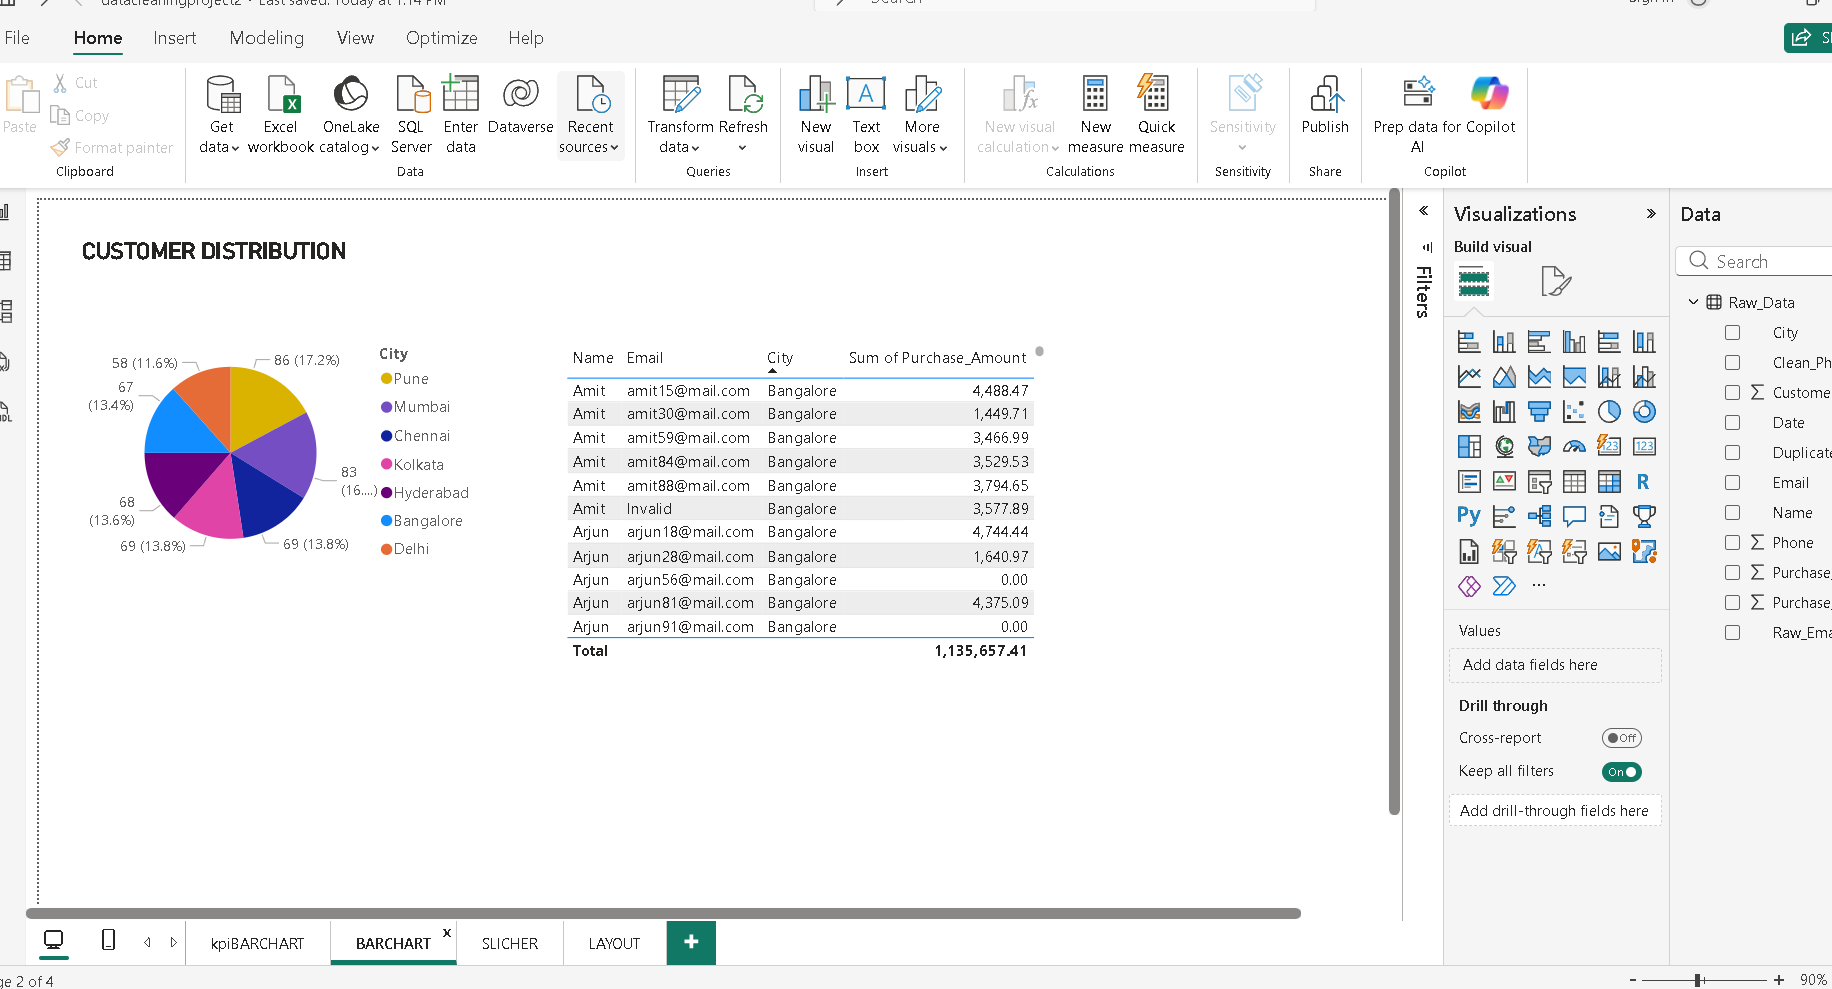

What the dashboard file says about the page in this screenshot:
{"tool":"powerbi","page":{"name":"BARCHART","canvas":[1280,720],"ordinal":1},"visuals":[{"type":"pieChart","title":"CUSTOMER DISTRIBUTION","fields":{"Category":["Raw_Data.City"],"Y":["CountNonNull(Raw_Data.Customer_ID)"]},"box":[33.3,33.3,362.2,360],"z":0},{"type":"tableEx","fields":{"Values":["Raw_Data.Name","Raw_Data.Email","Raw_Data.City","Sum(Raw_Data.Purchase_Amount)"]},"box":[463.3,124.4,435.6,290],"z":1}]}

Visuals, with their boxes on the page's 1280x720 design canvas (x1, y1, x2, y2). These are canvas units, not pixel positions in the 1832x989 screenshot, which may show the page scaled, cropped or inside an application window:
"CUSTOMER DISTRIBUTION" pieChart: 33:33:396:393
tableEx - Raw_Data.Name x Raw_Data.Email: 463:124:899:414
